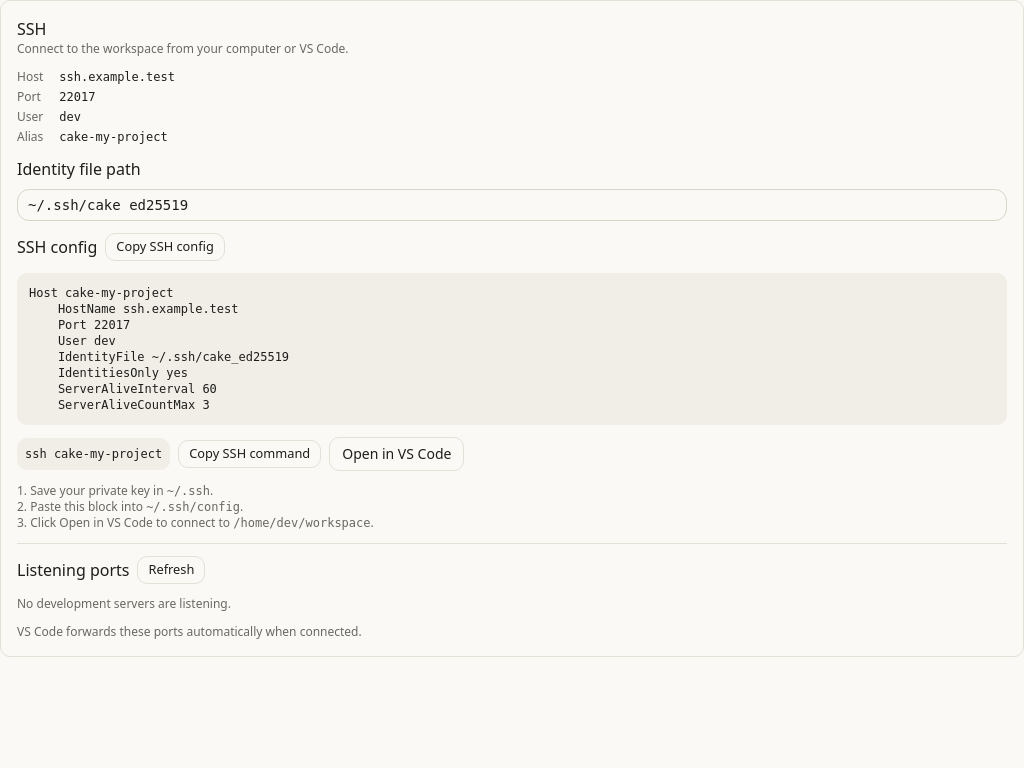
Test: EnvironmentSsh › renders the workspace config, VS Code link, and remembers an edited identity file
Expected: the text "IdentityFile ~/.ssh/cake_ed25519" is shown, [29,286,289,412]
Replace the text in the field labelled "Identity file path" with "~/.ssh/work-key" at (512, 205), box [17,189,1007,221]
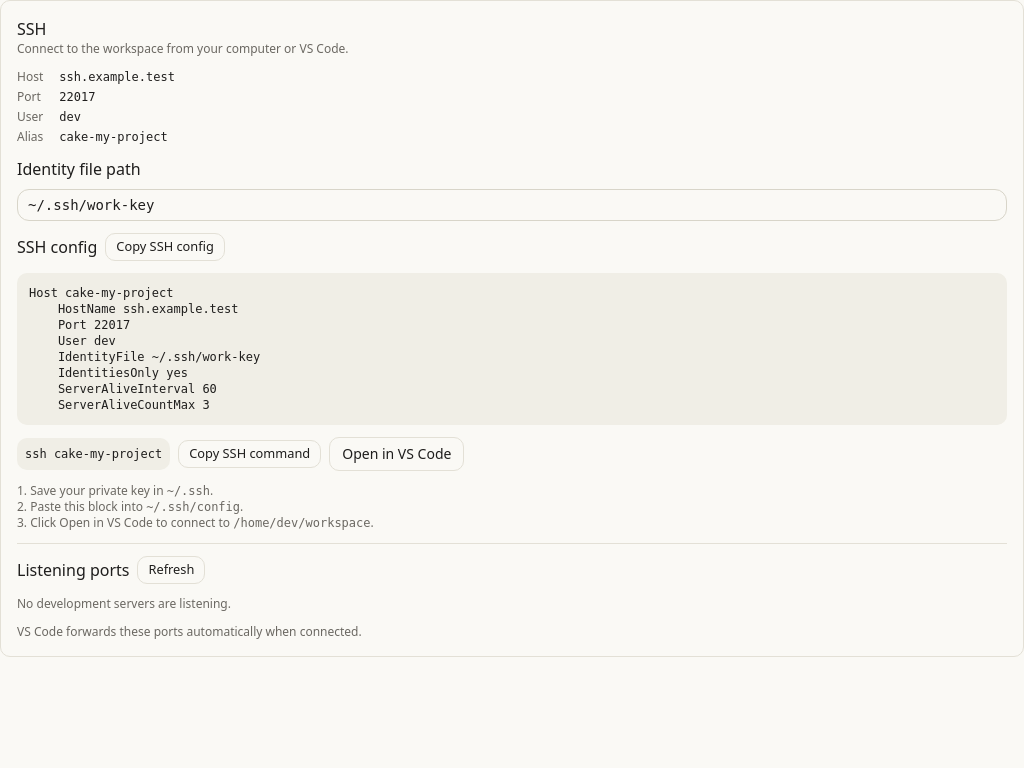
Now the text "IdentityFile ~/.ssh/work-key" is shown, box [29,286,260,412]
